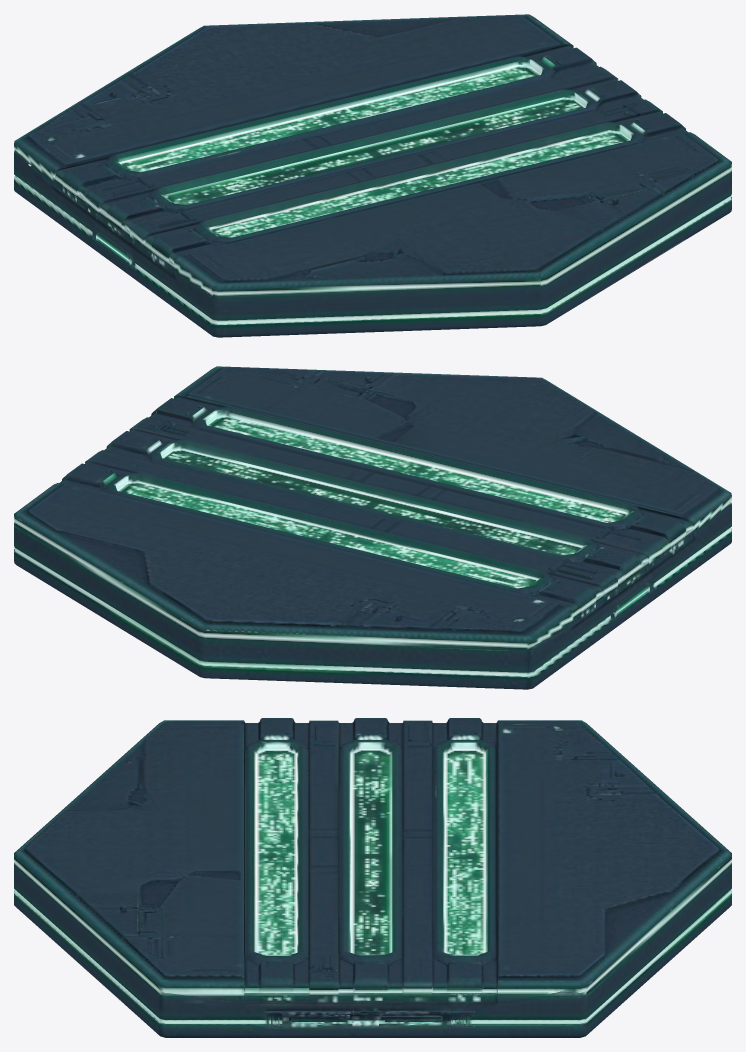
File: plaine_grenier_v2.glb
The picture shows the model from 3 angles, top to bottom: view 1: azimuth 30°, elevation 25°; view 2: azimuth 150°, elevation 25°; view 3: azimuth 270°, elevation 25°; orthographic projection. The views are drawn at different scales.
Parts seen in each view (by area): view 1: tripo_node_1b66ebc3-d7db-4ff2-910f-db75db48b8eb; view 2: tripo_node_1b66ebc3-d7db-4ff2-910f-db75db48b8eb; view 3: tripo_node_1b66ebc3-d7db-4ff2-910f-db75db48b8eb.
Part boxes in pixels (x1=…): tripo_node_1b66ebc3-d7db-4ff2-910f-db75db48b8eb: x1=14, y1=14, x2=731, y2=337; tripo_node_1b66ebc3-d7db-4ff2-910f-db75db48b8eb: x1=14, y1=366, x2=731, y2=689; tripo_node_1b66ebc3-d7db-4ff2-910f-db75db48b8eb: x1=14, y1=718, x2=731, y2=1037.
Size of the model in its own units: 0.8833 by 0.0991 by 0.9995.
Materials: 1 (1 with a texture image).
